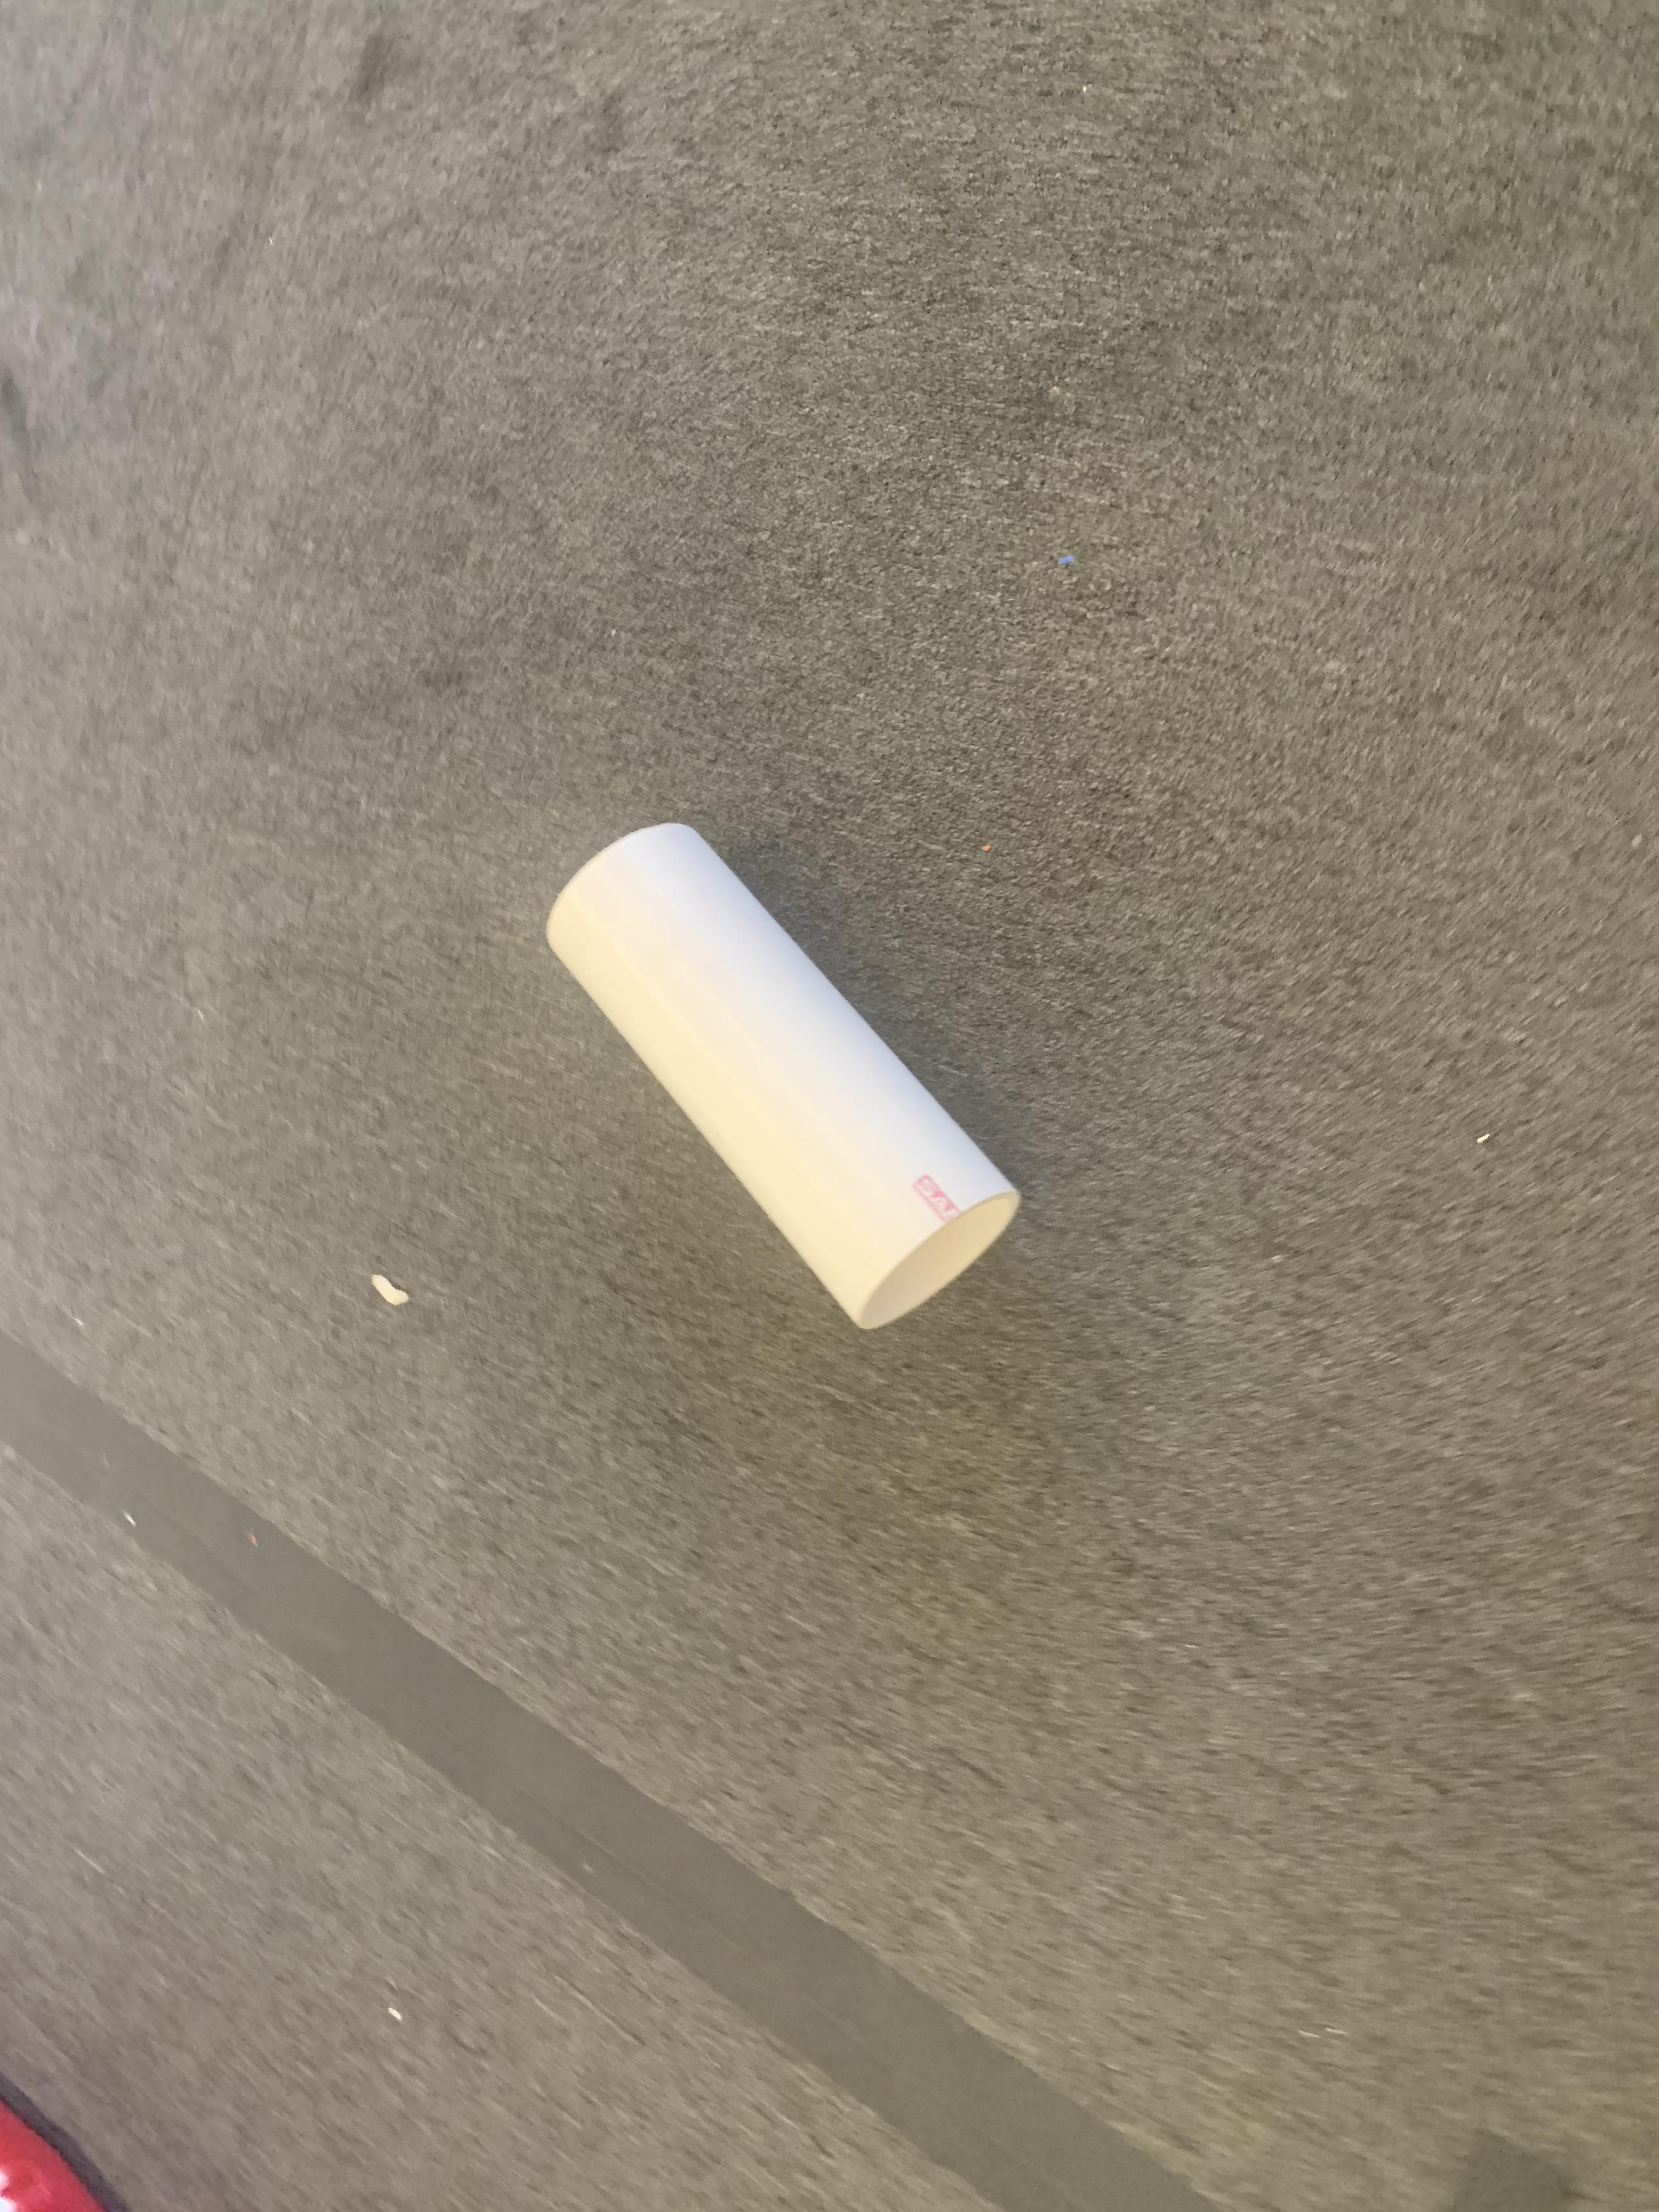coral: (540, 817, 1023, 1332)
